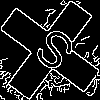S: (25, 25, 79, 82)
